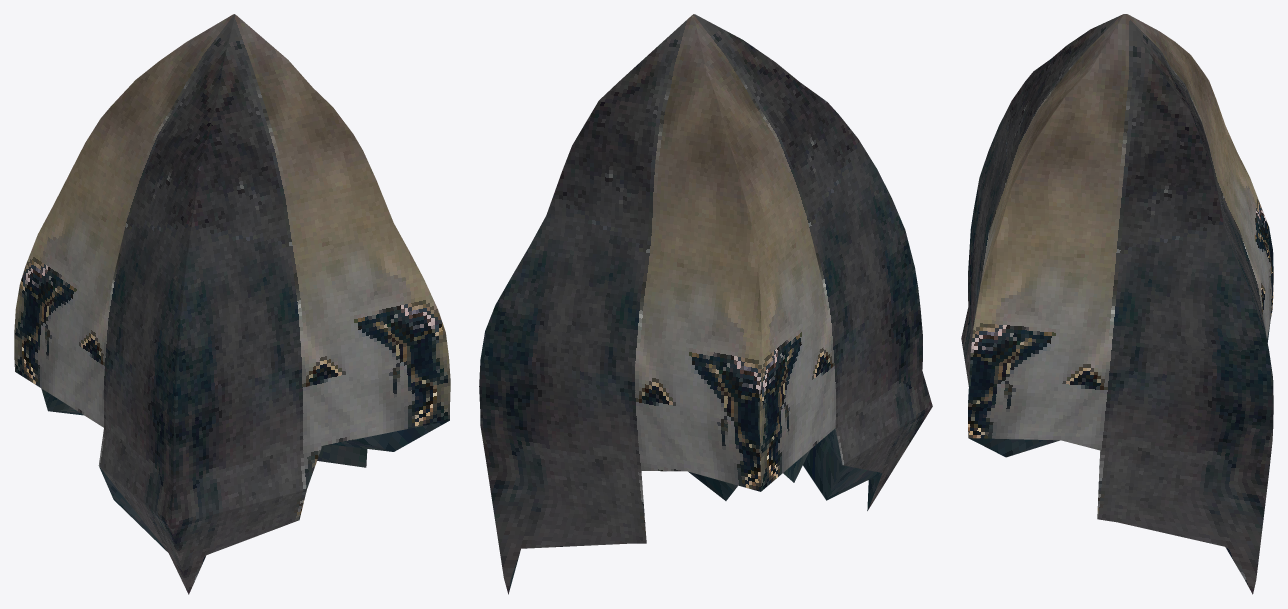
3 renders of one model, left to right at view 1: azimuth 30°, elevation 25°; view 2: azimuth 150°, elevation 25°; view 3: azimuth 270°, elevation 25°, orthographic. The views are drawn at different scales.
Parts seen in each view (by area): view 1: SPLICE_2; view 2: SPLICE_2; view 3: SPLICE_2.
Part boxes in pixels (x1,y1,x2,y2): SPLICE_2: (14, 14, 450, 594); SPLICE_2: (479, 14, 932, 594); SPLICE_2: (961, 14, 1273, 594).
Size of the model in its own units: 1.22 by 2.27 by 1.22.
1 material, 1 textured.
